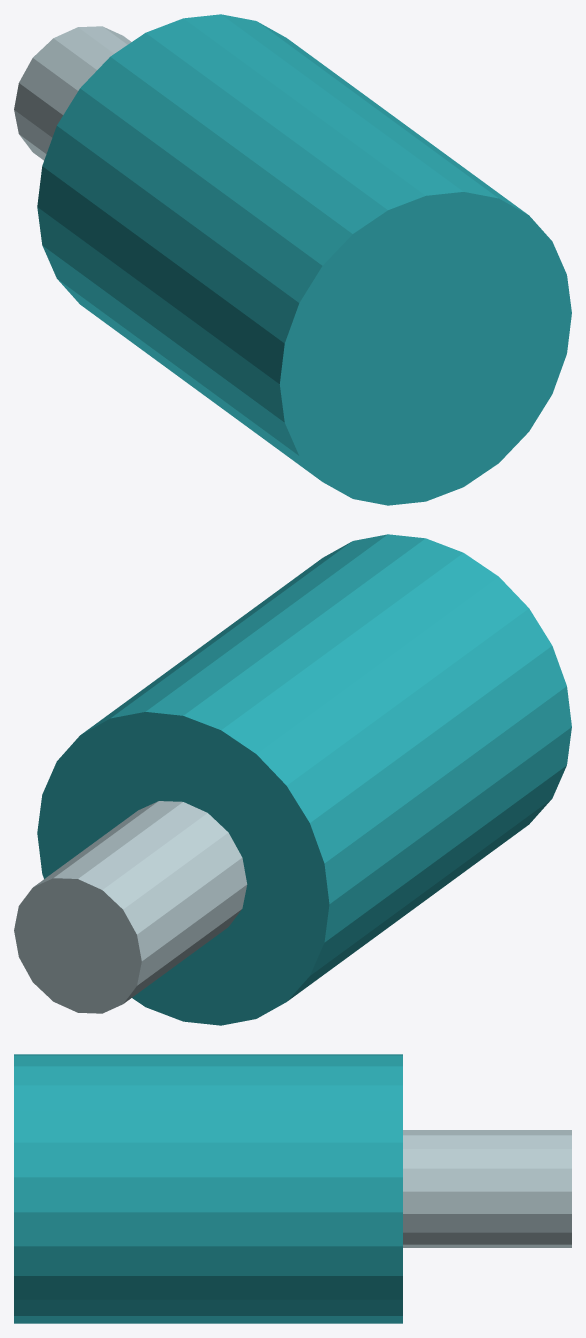
The model's file is garbage-disposal.glb.
3 views of the same model, one above another, from view 1: azimuth 30°, elevation 25°; view 2: azimuth 150°, elevation 25°; view 3: azimuth 270°, elevation 25° (orthographic). The views are drawn at different scales.
Visible parts, largest first — view 1: world; view 2: world; view 3: world.
Boxes of the visible parts, bbox=[...] form: world: bbox=[14, 14, 571, 505]; world: bbox=[14, 534, 571, 1025]; world: bbox=[14, 1054, 571, 1323].
Bounding box in the file's own units: 0.32 × 0.32 × 0.66.
